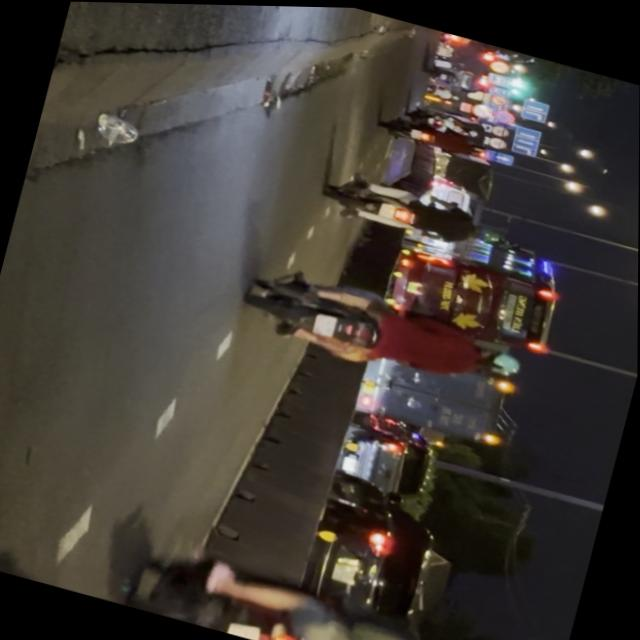helmet: (476, 342, 526, 378)
licenseplate: (105, 526, 521, 640), (238, 257, 533, 404)
nohelmet: (229, 620, 263, 640), (312, 310, 338, 335)
